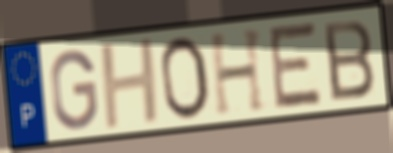B: (320, 17, 377, 104)
E: (268, 20, 324, 112)
G: (49, 47, 100, 132)
H: (97, 35, 163, 133), (207, 25, 269, 118)
O: (158, 34, 213, 123)
